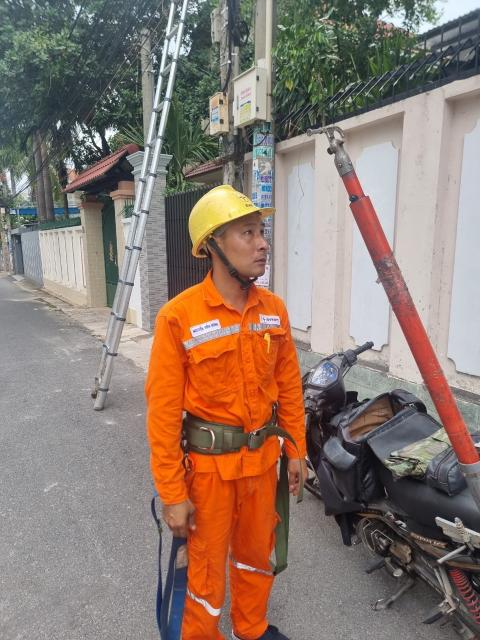harness: (168, 402, 304, 463)
helmet: (187, 188, 279, 258)
shoes: (227, 606, 318, 640)
